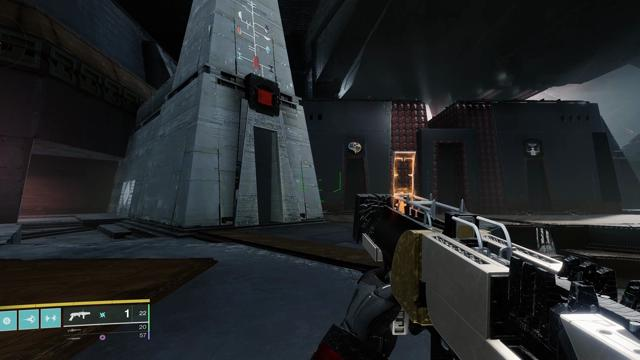brain: (347, 141, 362, 155)
drink: (525, 141, 541, 156)
stop: (254, 84, 275, 109)
